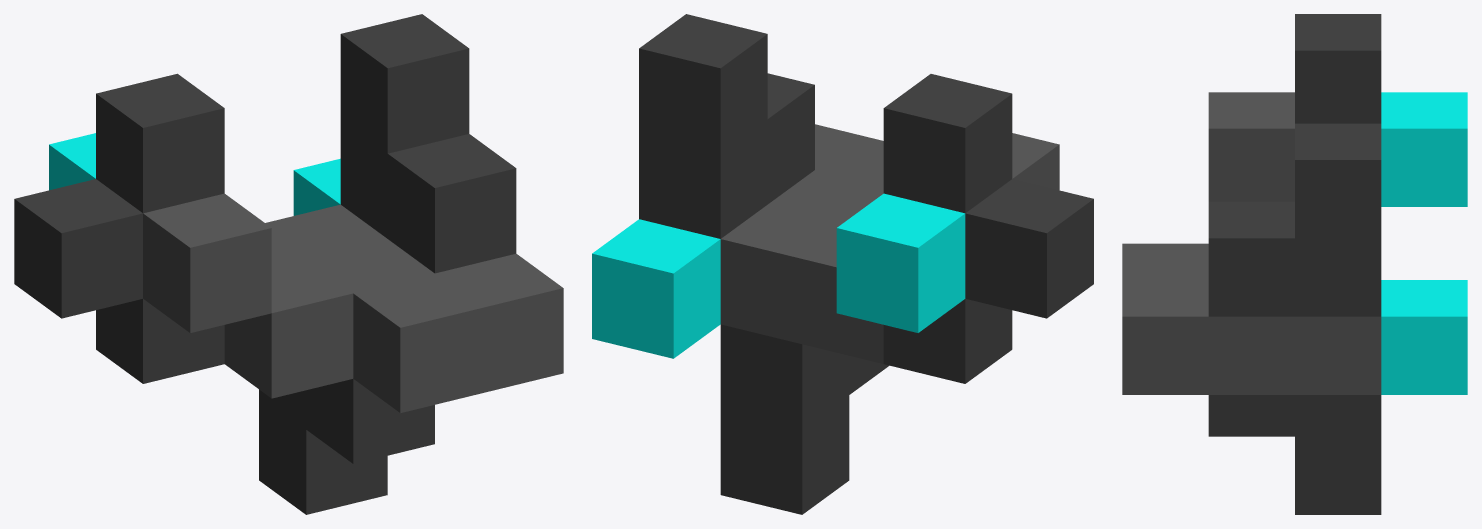
The model's file is Extra-2-MicroRecon_Wing2_R.obj.
3 views of the same model, side by side, from view 1: azimuth 30°, elevation 25°; view 2: azimuth 150°, elevation 25°; view 3: azimuth 270°, elevation 25° (orthographic). The views are drawn at different scales.
Visible parts, largest first — view 1: MicroRecon_Wing2_R; view 2: MicroRecon_Wing2_R; view 3: MicroRecon_Wing2_R.
Part boxes in pixels (x1,y1,x2,y2): MicroRecon_Wing2_R: (14,14,563,514); MicroRecon_Wing2_R: (592,14,1093,514); MicroRecon_Wing2_R: (1122,14,1467,514).
Bounding box in the file's own units: 0.5 × 0.5 × 0.4.
Materials: 1 (1 with a texture image).
